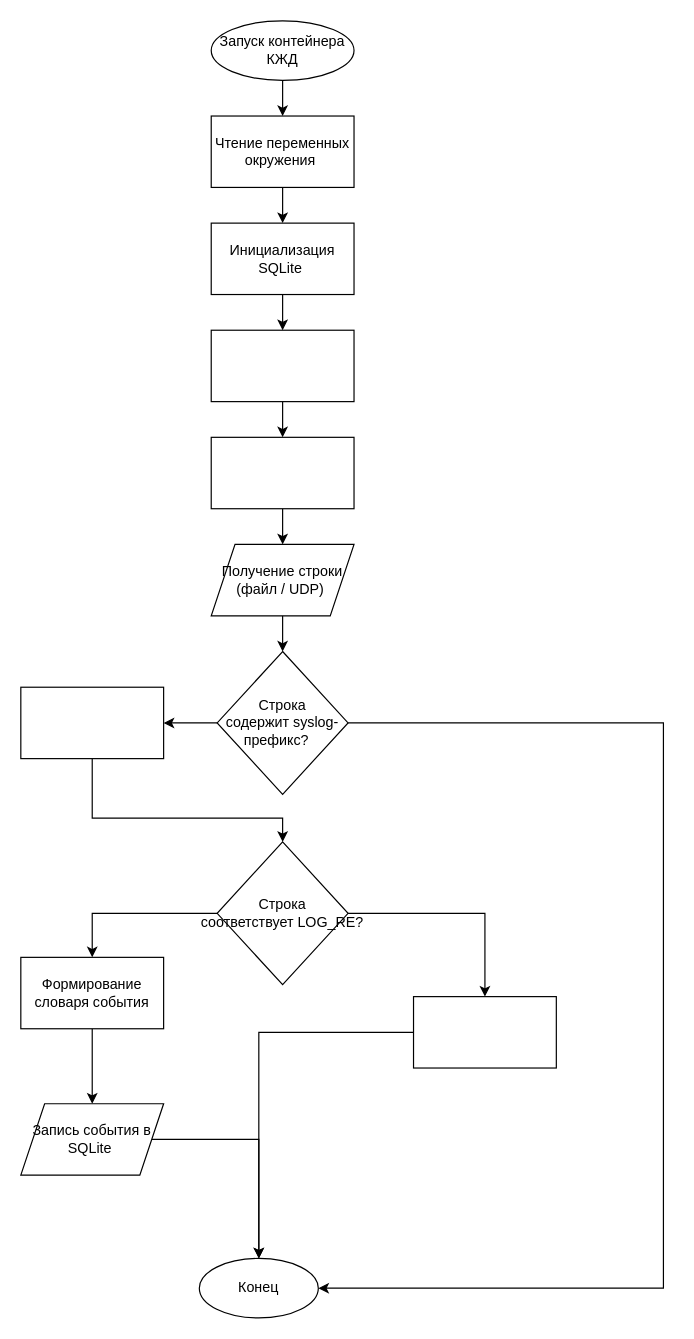
The diagram is 694 pixels wide and 1339 high, and some of its shapes have lost their labels. Here are the shapes that lost their labels. From the top down, the centre of each, then its label:
At (282,365): "Запуск потоков FileWatcher и SyslogServer".
At (282,472): "Запуск REST API".
At (92,722): "Удаление syslog-префикса".
At (484,1031): "Запись предупреждения".
